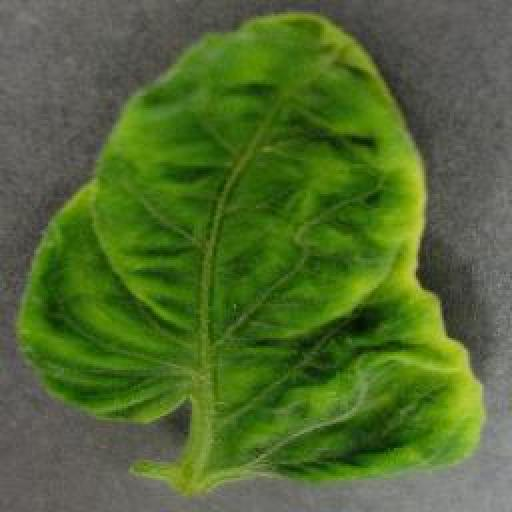disease_tomato: (16, 11, 486, 485)
